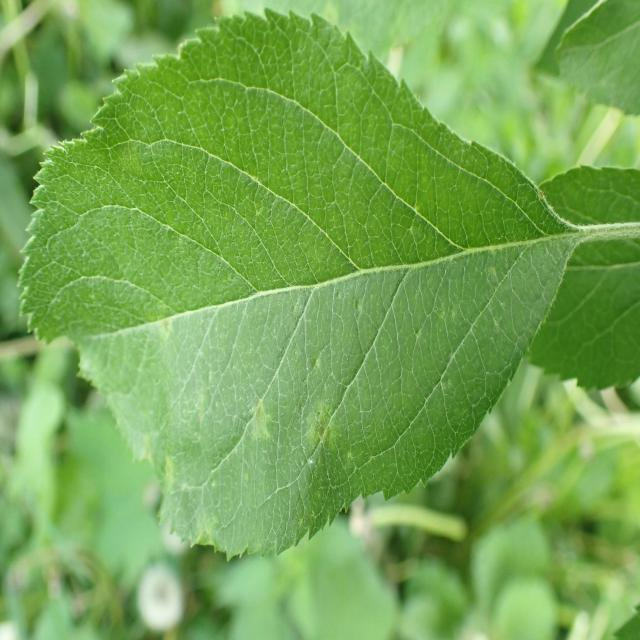scab: (69, 151, 409, 550)
